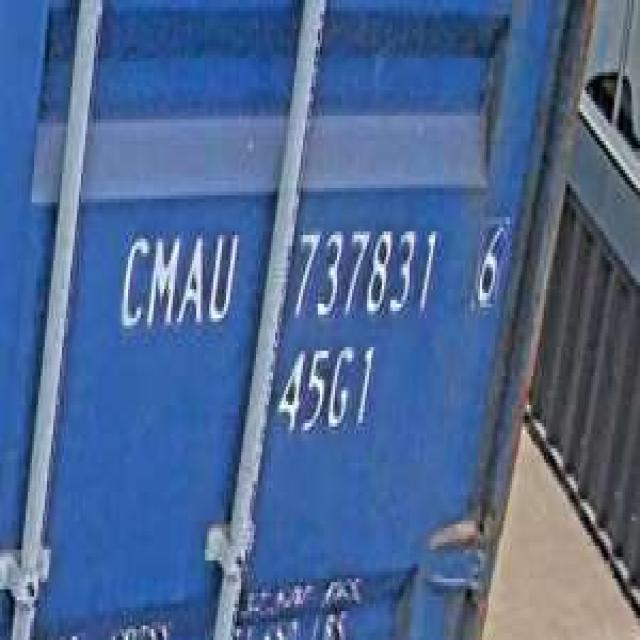dv: (472, 210, 506, 314)
owner: (113, 221, 239, 336)
serial: (290, 217, 442, 325)
size: (275, 336, 380, 441)
